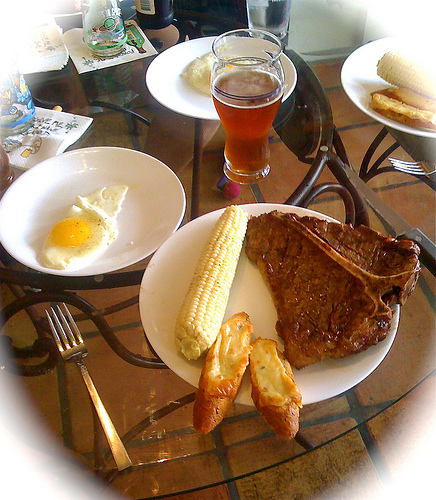corn: (176, 201, 251, 371), (374, 53, 434, 97)
